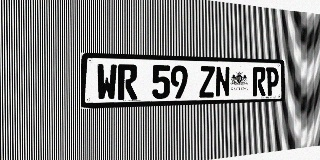5: (152, 65, 170, 99)
9: (171, 65, 188, 99)
N: (215, 66, 230, 97)
P: (266, 67, 279, 96)
R: (118, 64, 137, 100), (252, 67, 266, 96)
W: (96, 64, 117, 101)
Z: (199, 66, 215, 98)
